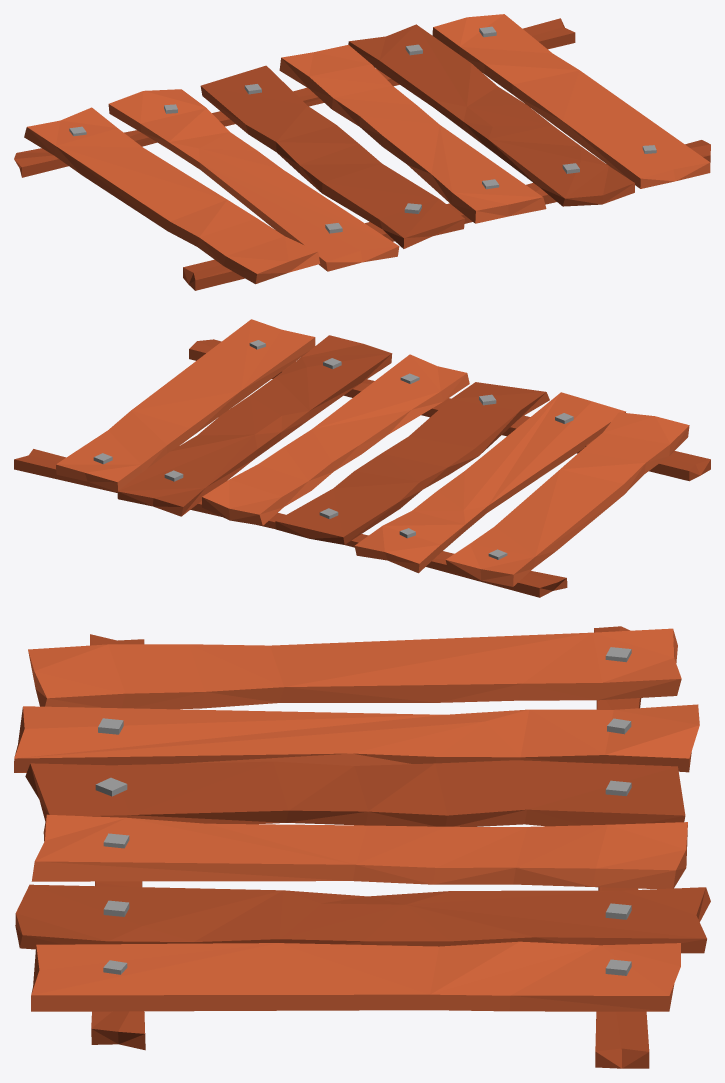
File: Bridge_001.FBX
3 renders of one model, top to bottom at view 1: azimuth 30°, elevation 25°; view 2: azimuth 150°, elevation 25°; view 3: azimuth 270°, elevation 25°, orthographic. The views are drawn at different scales.
Visible parts, largest first — view 1: Box016, Box015, Box009, Box007, Box013, Box008, Box020, Box019; view 2: Box009, Box016, Box015, Box007, Box008, Box013, Box020, Box019; view 3: Box015, Box016, Box008, Box007, Box009, Box013, Box020, Box019.
Boxes of the visible parts, x1=… form: Box016: x1=24, y1=107, x2=320, y2=284; Box015: x1=432, y1=14, x2=710, y2=188; Box009: x1=348, y1=24, x2=634, y2=206; Box007: x1=200, y1=65, x2=464, y2=248; Box013: x1=108, y1=89, x2=399, y2=271; Box008: x1=279, y1=45, x2=546, y2=223; Box020: x1=14, y1=18, x2=575, y2=177; Box019: x1=183, y1=140, x2=710, y2=290; Box009: x1=117, y1=335, x2=392, y2=516; Box016: x1=445, y1=412, x2=689, y2=586; Box015: x1=56, y1=319, x2=315, y2=492; Box007: x1=275, y1=382, x2=549, y2=544; Box008: x1=202, y1=354, x2=469, y2=525; Box013: x1=354, y1=392, x2=625, y2=573; Box020: x1=14, y1=449, x2=567, y2=597; Box019: x1=189, y1=339, x2=710, y2=481; Box015: x1=31, y1=941, x2=680, y2=1011; Box016: x1=28, y1=628, x2=681, y2=709; Box008: x1=31, y1=814, x2=687, y2=889; Box007: x1=25, y1=760, x2=685, y2=826; Box009: x1=15, y1=884, x2=710, y2=953; Box013: x1=14, y1=704, x2=699, y2=772; Box020: x1=594, y1=626, x2=649, y2=1068; Box019: x1=90, y1=634, x2=145, y2=1050.
Bounding box in the file's own units: 29.99 × 1.58 × 20.82.
